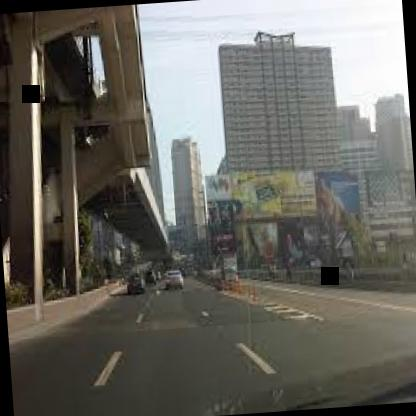car: (160, 266, 190, 295), (122, 273, 148, 300)
